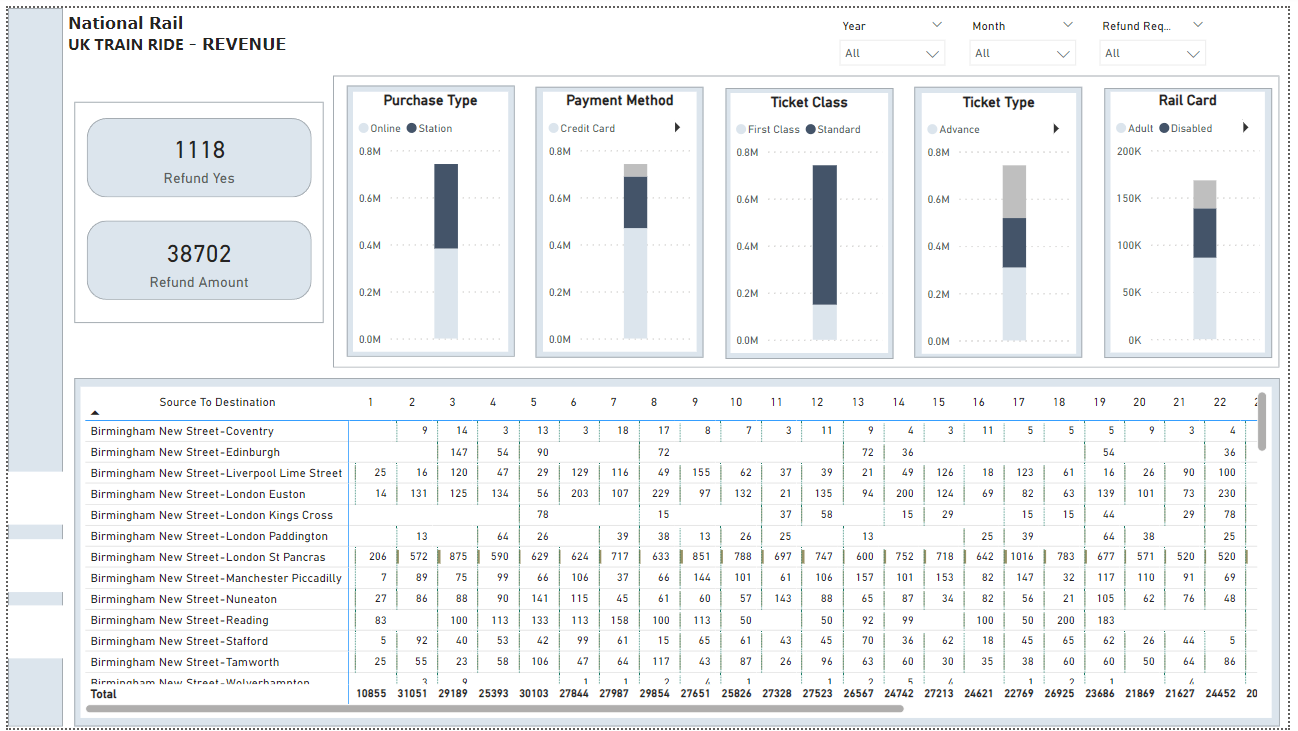

The page's visual inventory and layout, read from the dashboard file:
{"tool":"powerbi","page":{"name":"Revenue","canvas":[1280,720],"ordinal":1},"visuals":[{"type":"slicer","fields":{"Values":["railway.Date of Purchase.Variation.Date Hierarchy.Month"]},"box":[950.4,5.8,126.7,52.5],"z":0,"group":"g1"},{"type":"shape","box":[66,370.5,1205.7,348.5],"z":0},{"type":"slicer","fields":{"Values":["railway.Date of Purchase.Variation.Date Hierarchy.Year"]},"box":[820.8,5.8,125.8,52.5],"z":1000,"group":"g1"},{"type":"shape","box":[338.7,77,168.1,271.4],"z":1000,"group":"g2"},{"type":"shape","box":[66,94.2,249.5,221.3],"z":1000},{"type":"slicer","fields":{"Values":["railway.Refund Request"]},"box":[1080.8,5.8,126.7,52.5],"z":2000,"group":"g1"},{"type":"shape","box":[717.3,78.9,168,271],"z":2000,"group":"g2"},{"type":"shape","box":[78.3,212.8,225,79.5],"z":2000},{"type":"shape","box":[528.1,77.9,168,271],"z":3000,"group":"g2"},{"type":"shape","box":[78.3,110.1,225,79.5],"z":3000},{"type":"shape","box":[325.3,67.3,946.5,292.3],"z":4000},{"type":"shape","box":[906.6,78.4,168,271],"z":4000,"group":"g2"},{"type":"shape","box":[0,0,55,718.8],"z":5000},{"type":"group","id":"g1","title":"Group 1","box":[820.8,5.8,386.7,52.5],"z":6000},{"type":"group","id":"g2","title":"Group 2","box":[338.7,77,924.5,273.9],"z":7000},{"type":"columnChart","title":"Purchase Type","fields":{"Y":["Purchase Type.Online Revenue","Purchase Type.Station Revenue"]},"box":[345.2,83.4,155,260],"z":7000,"group":"g2"},{"type":"columnChart","title":"Payment Method","fields":{"Y":["Payment Method.Credit_card_Revenue","Payment Method.CardlessRevenue","Payment Method.Debit_card_Revenue"]},"box":[534.4,83.7,153.8,260],"z":8000,"group":"g2"},{"type":"card","fields":{"Values":["Refund Request.Yes"]},"box":[78.2,110,225.3,79.4],"z":8000},{"type":"columnChart","title":"Ticket Class","fields":{"Y":["Ticket_Class .FirstClass_Revenue","Ticket_Class .Standard_Revenue"]},"box":[723,84.4,157.3,260],"z":9000,"group":"g2"},{"type":"card","fields":{"Values":["Refund Request.Yes_Revenue"]},"box":[78.3,214,225,79.5],"z":9000},{"type":"columnChart","title":"Ticket Type","fields":{"Y":["Ticket Type.Advance  Revenue","Ticket Type.Anytime Revenue","Ticket Type.OffPeak Revenue"]},"box":[913.7,84.4,154,260.7],"z":11000,"group":"g2"},{"type":"pivotTable","fields":{"Rows":["railway.Source To Destination"],"Values":["Sum(railway.Price)"],"Columns":["railway.Date of Purchase.Variation.Date Hierarchy.Day"]},"box":[72.1,379.1,1191,331.4],"z":11000},{"type":"textbox","box":[55,0,261.2,67.5],"z":12000},{"type":"actionButton","box":[0,463.5,55,52.6],"z":13000},{"type":"actionButton","box":[0,530.7,55,52.6],"z":14000},{"type":"shape","box":[1095.9,79.4,167.9,270],"z":15000,"group":"g2"},{"type":"actionButton","box":[0,598,55,52.6],"z":15000},{"type":"columnChart","title":"Rail Card","fields":{"Y":["RailCard.Adult Revenue","RailCard.Disabled_Revenue","RailCard.Senior_Revenue"]},"box":[1102.6,83.1,154.5,260.6],"z":16000,"group":"g2"}]}

Visuals, with their boxes in screenshot pixels (x1, y1, x2, y2), scaled from the page's 1280x720 canvas onto the 1298x731 screenshot:
slicer - railway.Date of Purchase.Variation.Date Hierarchy.Month: pyautogui.locateOnScreen(964, 6, 1092, 59)
shape: pyautogui.locateOnScreen(67, 376, 1290, 730)
slicer - railway.Date of Purchase.Variation.Date Hierarchy.Year: pyautogui.locateOnScreen(832, 6, 960, 59)
shape: pyautogui.locateOnScreen(343, 78, 514, 354)
shape: pyautogui.locateOnScreen(67, 96, 320, 320)
slicer - railway.Refund Request: pyautogui.locateOnScreen(1096, 6, 1224, 59)
shape: pyautogui.locateOnScreen(727, 80, 898, 355)
shape: pyautogui.locateOnScreen(79, 216, 308, 297)
shape: pyautogui.locateOnScreen(536, 79, 706, 354)
shape: pyautogui.locateOnScreen(79, 112, 308, 192)
shape: pyautogui.locateOnScreen(330, 68, 1290, 365)
shape: pyautogui.locateOnScreen(919, 80, 1090, 355)
shape: pyautogui.locateOnScreen(0, 0, 56, 730)
"Group 1" group: pyautogui.locateOnScreen(832, 6, 1224, 59)
"Group 2" group: pyautogui.locateOnScreen(343, 78, 1281, 356)
"Purchase Type" columnChart: pyautogui.locateOnScreen(350, 85, 507, 349)
"Payment Method" columnChart: pyautogui.locateOnScreen(542, 85, 698, 349)
card - Refund Request.Yes: pyautogui.locateOnScreen(79, 112, 308, 192)
"Ticket Class" columnChart: pyautogui.locateOnScreen(733, 86, 893, 350)
card - Refund Request.Yes_Revenue: pyautogui.locateOnScreen(79, 217, 308, 298)
"Ticket Type" columnChart: pyautogui.locateOnScreen(927, 86, 1083, 350)
pivotTable - railway.Source To Destination x Sum(railway.Price): pyautogui.locateOnScreen(73, 385, 1281, 721)
textbox: pyautogui.locateOnScreen(56, 0, 321, 69)
actionButton: pyautogui.locateOnScreen(0, 471, 56, 524)
actionButton: pyautogui.locateOnScreen(0, 539, 56, 592)
shape: pyautogui.locateOnScreen(1111, 81, 1282, 355)
actionButton: pyautogui.locateOnScreen(0, 607, 56, 661)
"Rail Card" columnChart: pyautogui.locateOnScreen(1118, 84, 1275, 349)
